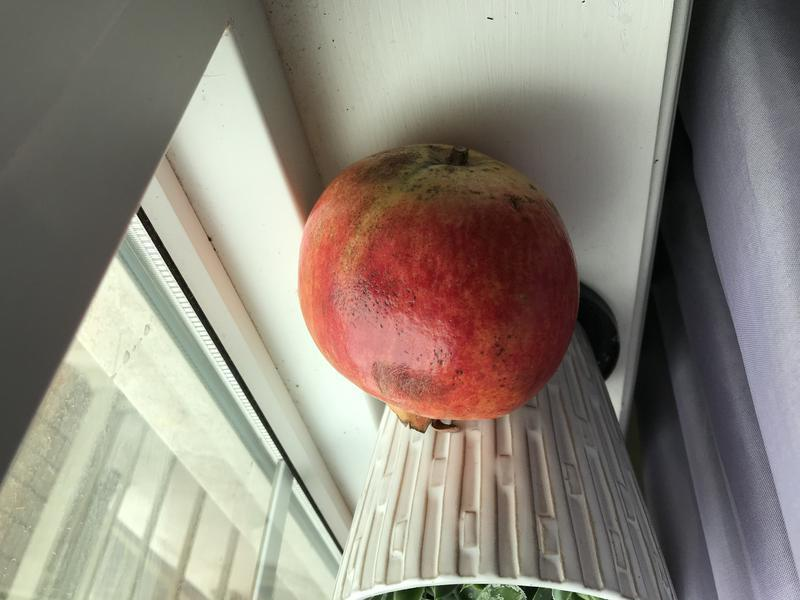pomegranate: (293, 123, 594, 449)
